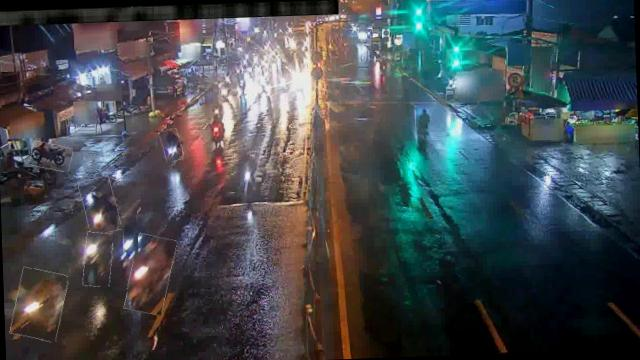Bike: (125, 233, 175, 315), (12, 268, 66, 342), (80, 176, 120, 235), (82, 232, 113, 288), (29, 142, 72, 171), (122, 216, 140, 261), (206, 111, 230, 144), (160, 128, 182, 162), (416, 106, 436, 138), (219, 80, 231, 99)
